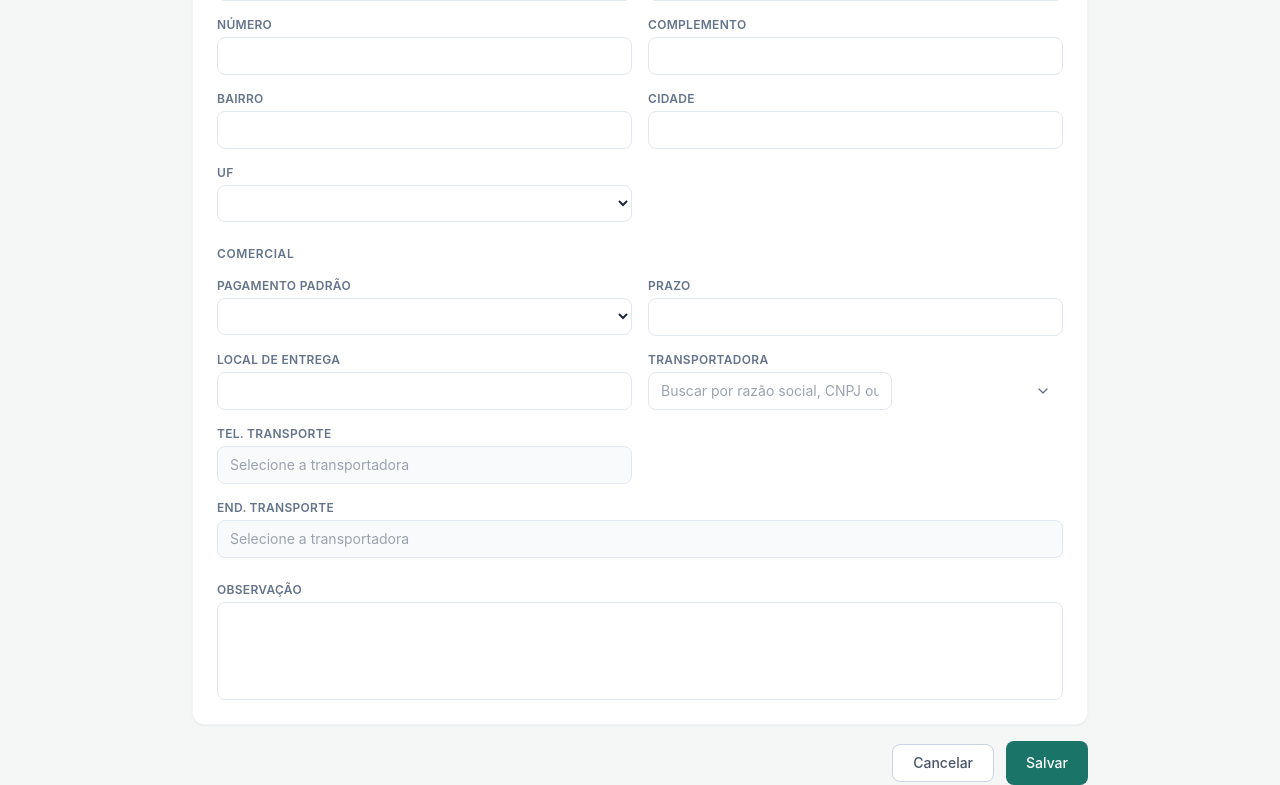
Test: ClienteForm — transportadora pesquisável › seleciona transportadora e exibe telefone e endereço
This screenshot has width=1280, height=785.
(page scrolled)
Focus the dropdown labelled "Transportadora" at (770,391), box [648,372,892,410]
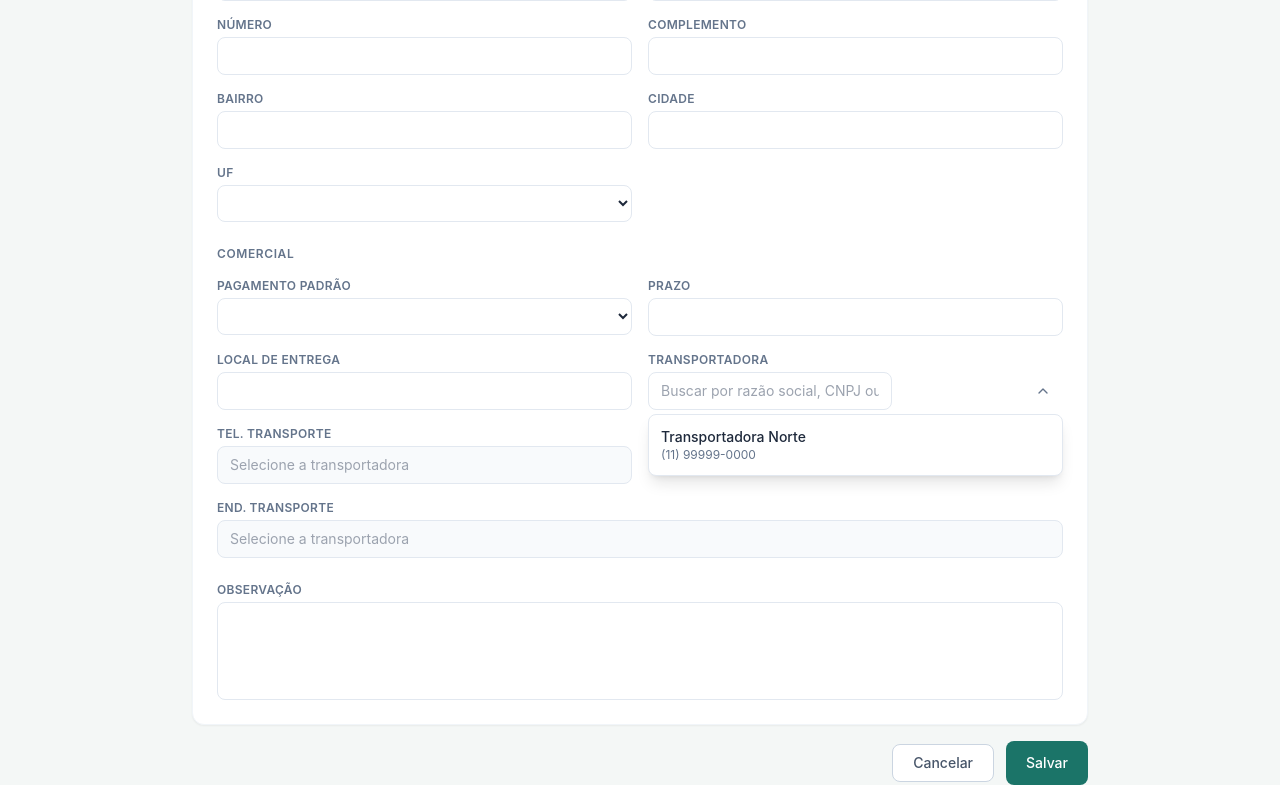
Click the option "Transportadora Norte (11) 99999-0000".
click(733, 445)  # box [661,428,806,462]
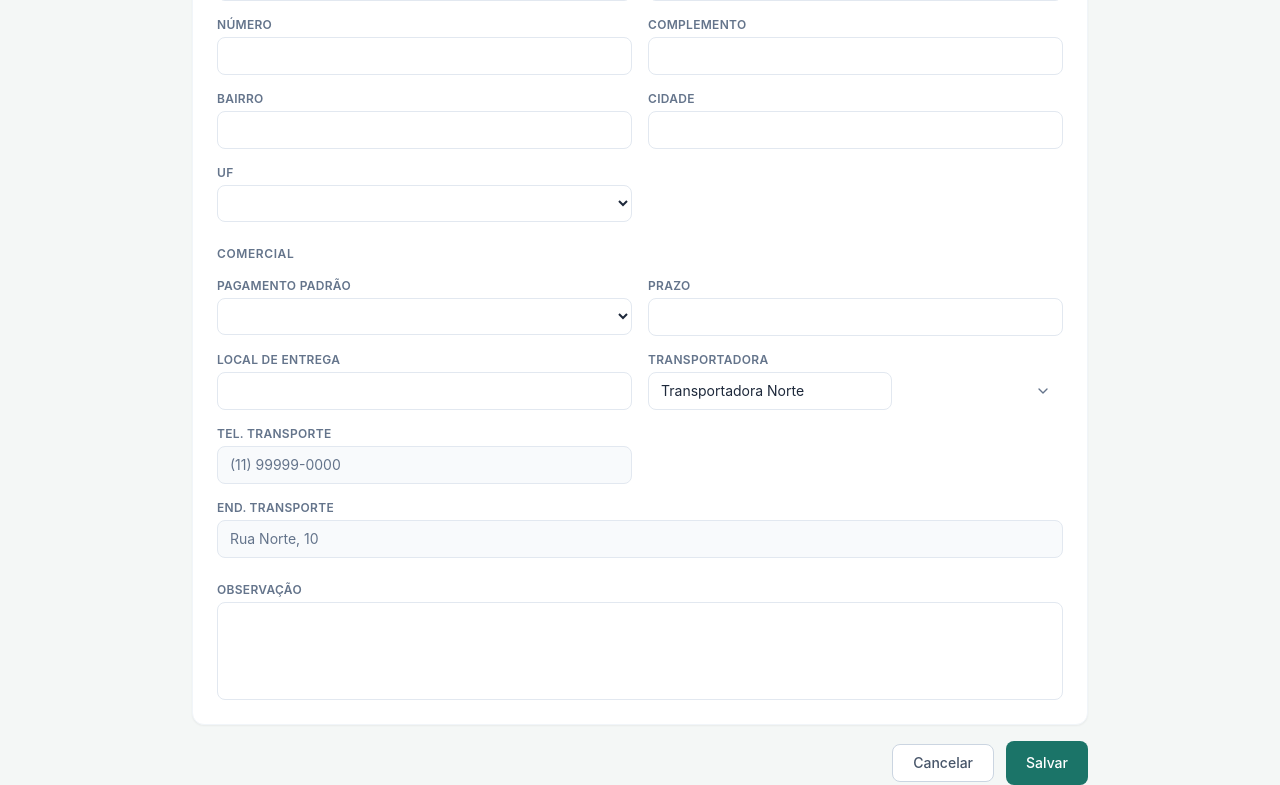
Expected: the dropdown labelled "Transportadora" holds "Transportadora Norte", [648,372,892,410]
Expected: the field with placeholder "Selecione a transportadora" below "Tel. Transporte" holds "(11) 99999-0000", [217,446,632,484]
Expected: the field with placeholder "Selecione a transportadora" below "End. Transporte" holds "Rua Norte, 10", [217,520,1063,558]
